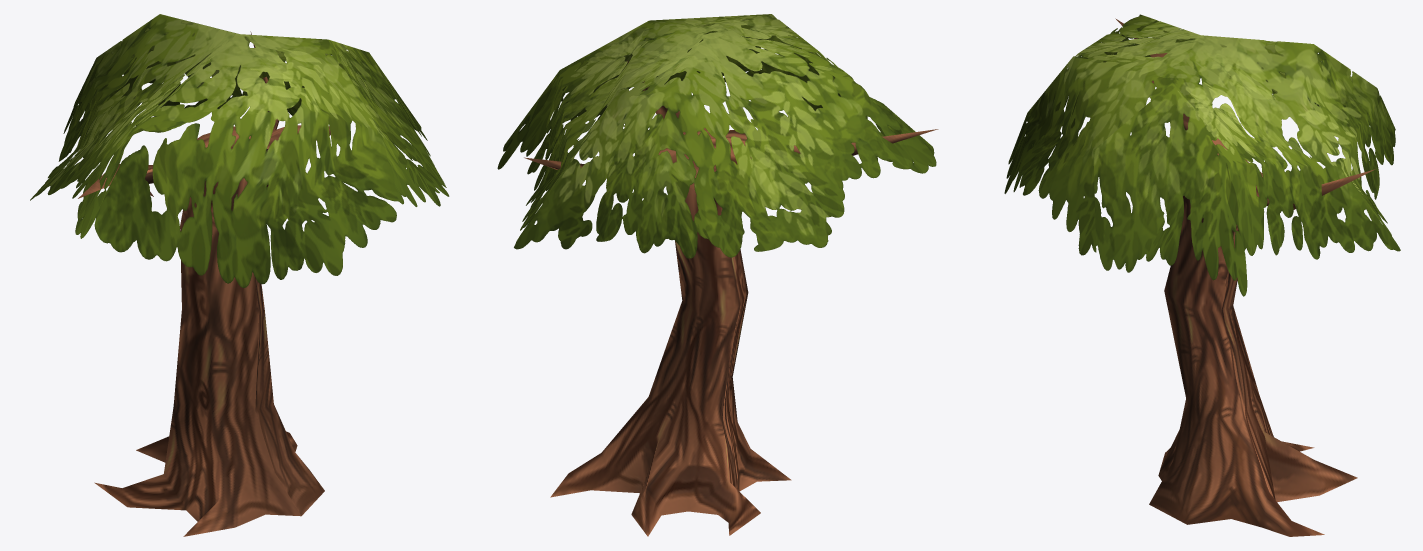
The model's file is tree_TreeShort3.FBX.
The picture shows the model from 3 angles, left to right: view 1: azimuth 30°, elevation 25°; view 2: azimuth 150°, elevation 25°; view 3: azimuth 270°, elevation 25°; orthographic projection. The views are drawn at different scales.
Visible parts, largest first — view 1: env_TreeTrunk005; view 2: env_TreeTrunk005; view 3: env_TreeTrunk005.
Part boxes in pixels (box(x1,y1,x2,y2)): env_TreeTrunk005: box(30, 14, 449, 536); env_TreeTrunk005: box(497, 14, 938, 536); env_TreeTrunk005: box(1004, 14, 1400, 536).
Size of the model in its own units: 42.93 by 36.97 by 44.5.
